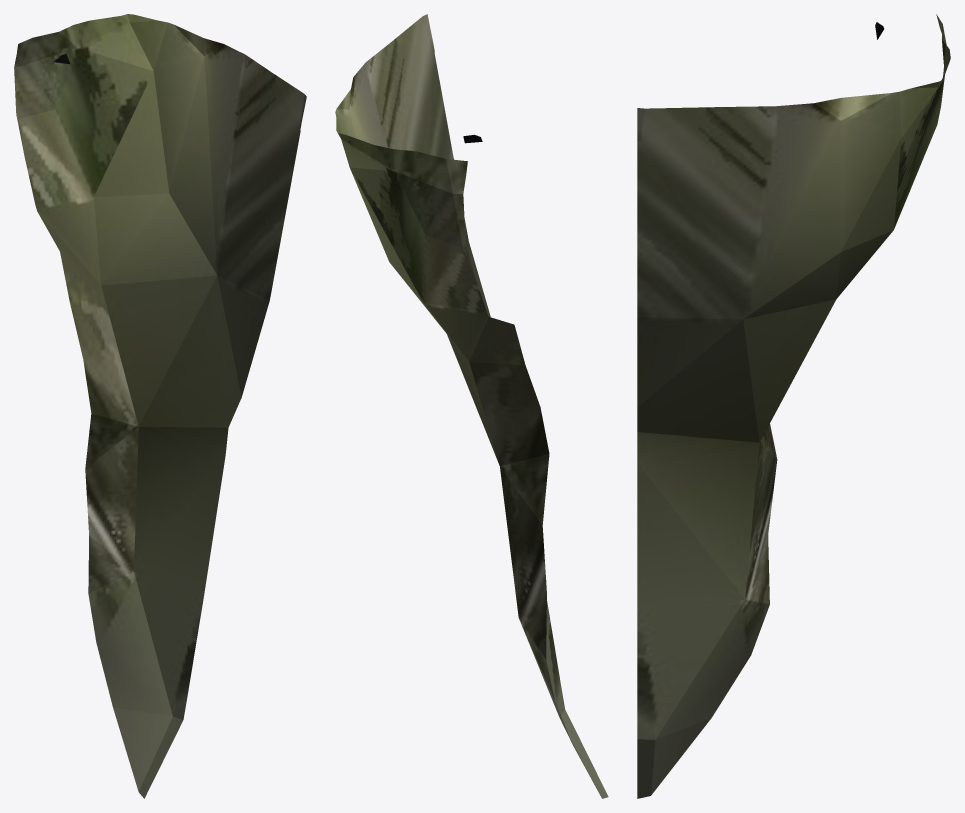
3 renders of one model, left to right at view 1: azimuth 30°, elevation 25°; view 2: azimuth 150°, elevation 25°; view 3: azimuth 270°, elevation 25°, orthographic. The views are drawn at different scales.
Bounding box in the file's own units: 0.7156 × 2.77 × 1.
Materials: 1 (1 with a texture image).
